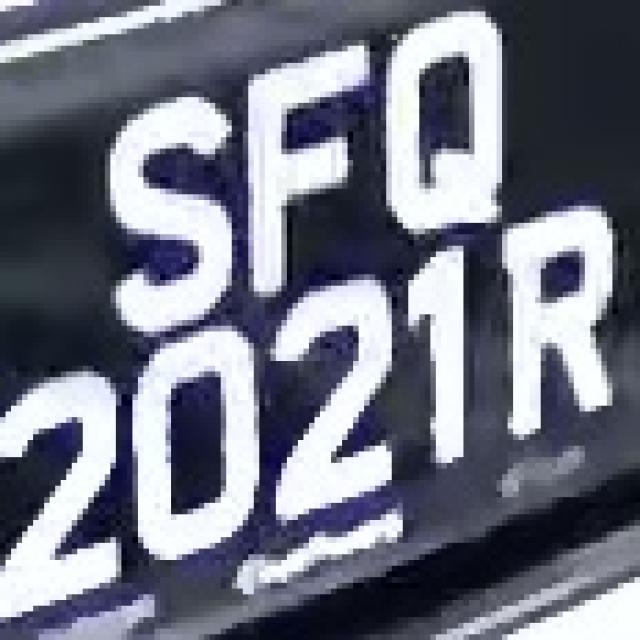0: (121, 320, 276, 566)
1: (380, 240, 474, 486)
2: (5, 366, 121, 611), (265, 286, 386, 520)
F: (226, 29, 359, 308)
Q: (369, 6, 518, 246)
R: (496, 194, 607, 446)
S: (94, 74, 237, 349)
